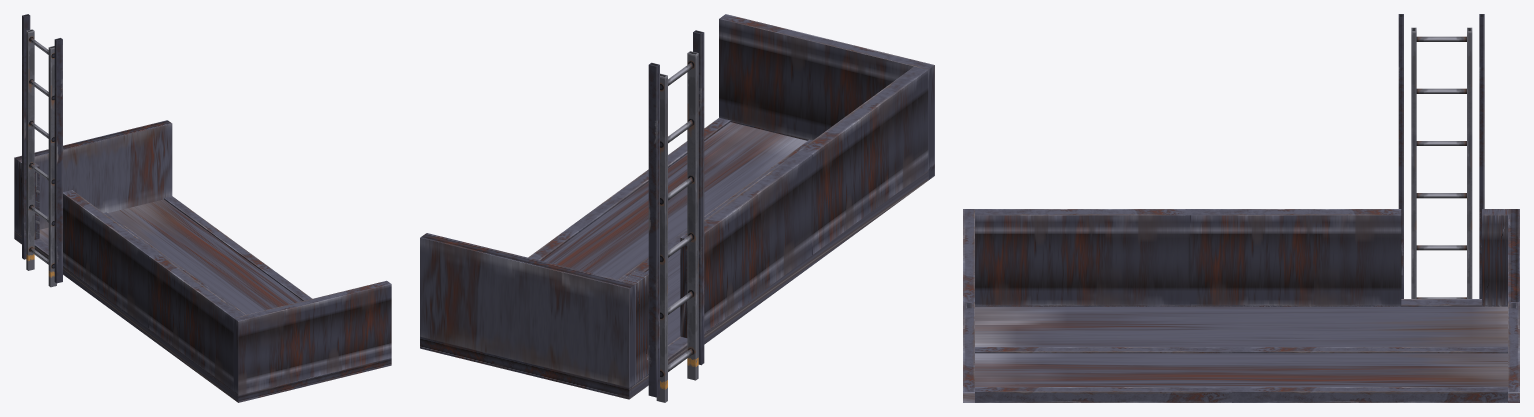
The model's file is fireEscape_bottom.FBX.
3 renders of one model, left to right at view 1: azimuth 30°, elevation 25°; view 2: azimuth 150°, elevation 25°; view 3: azimuth 270°, elevation 25°, orthographic. The views are drawn at different scales.
Visible parts, largest first — view 1: fireEscape_bottom_COL, fireEscape_bottom, fireEscape_ladder; view 2: fireEscape_bottom_COL, fireEscape_bottom, fireEscape_ladder; view 3: fireEscape_bottom_COL, fireEscape_bottom, fireEscape_ladder.
Part boxes in pixels (x1,y1,x2,y2): fireEscape_bottom_COL: [14, 120, 391, 402]; fireEscape_bottom: [15, 14, 312, 401]; fireEscape_ladder: [26, 29, 56, 287]; fireEscape_bottom_COL: [420, 14, 934, 399]; fireEscape_bottom: [420, 30, 934, 399]; fireEscape_ladder: [656, 51, 698, 402]; fireEscape_bottom_COL: [963, 209, 1519, 402]; fireEscape_bottom: [963, 14, 1519, 402]; fireEscape_ladder: [1411, 27, 1472, 298].
Size of the model in its own units: 228 by 340 by 552.
